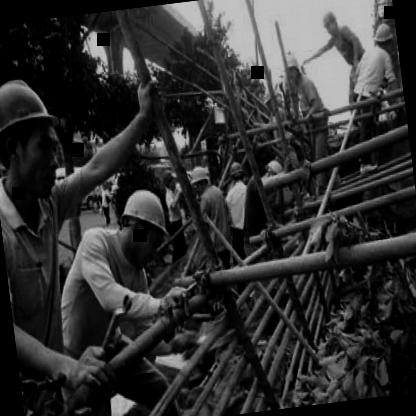helmet: (0, 64, 77, 211), (108, 180, 177, 268), (278, 44, 305, 82), (188, 158, 212, 196), (370, 19, 394, 54), (262, 154, 284, 192), (320, 7, 341, 40), (226, 155, 246, 188), (160, 162, 178, 194)
